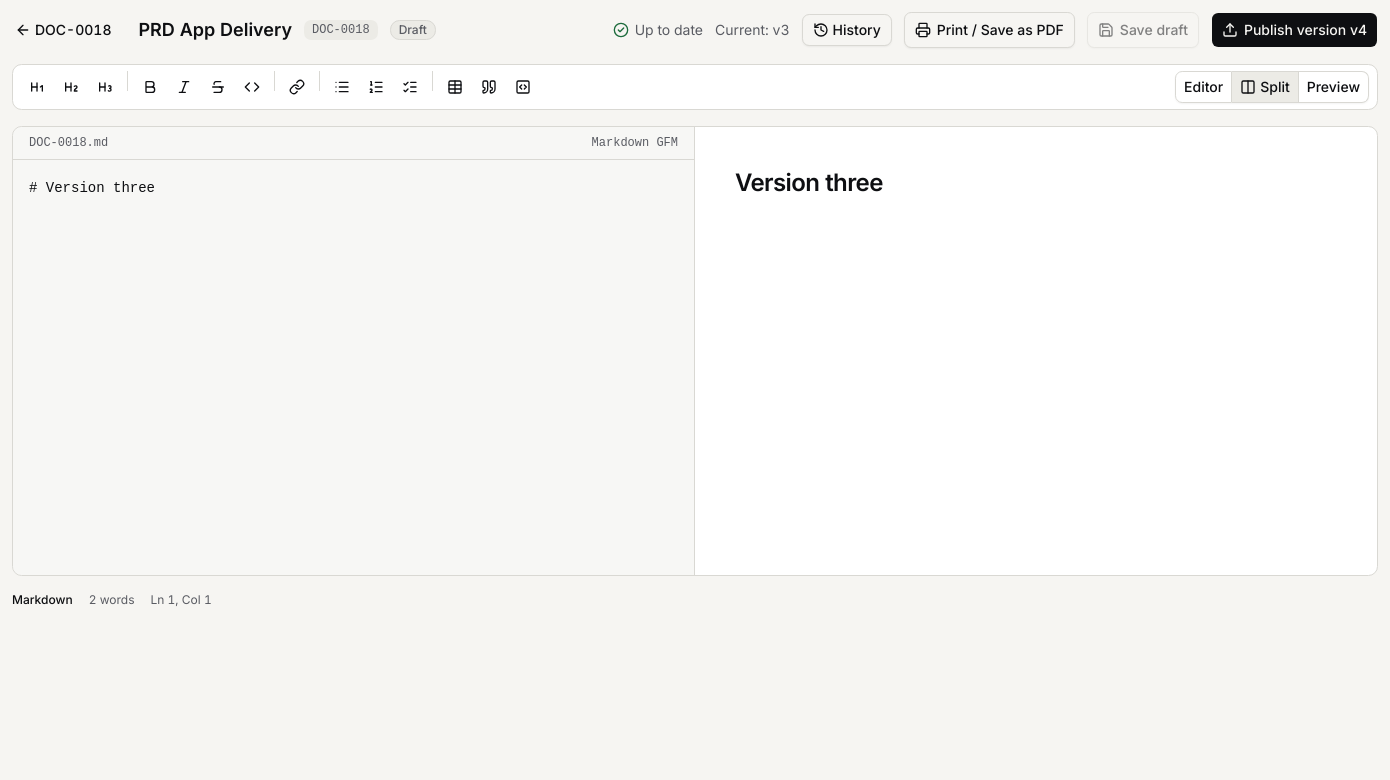
Test case: DocumentEditor save › shows an error state and keeps Save draft available when the draft cannot be saved
Replace the text in the text box named "Markdown source" with "# Changed" at (354,368), box top-left (13, 160), bottom-right (694, 575)
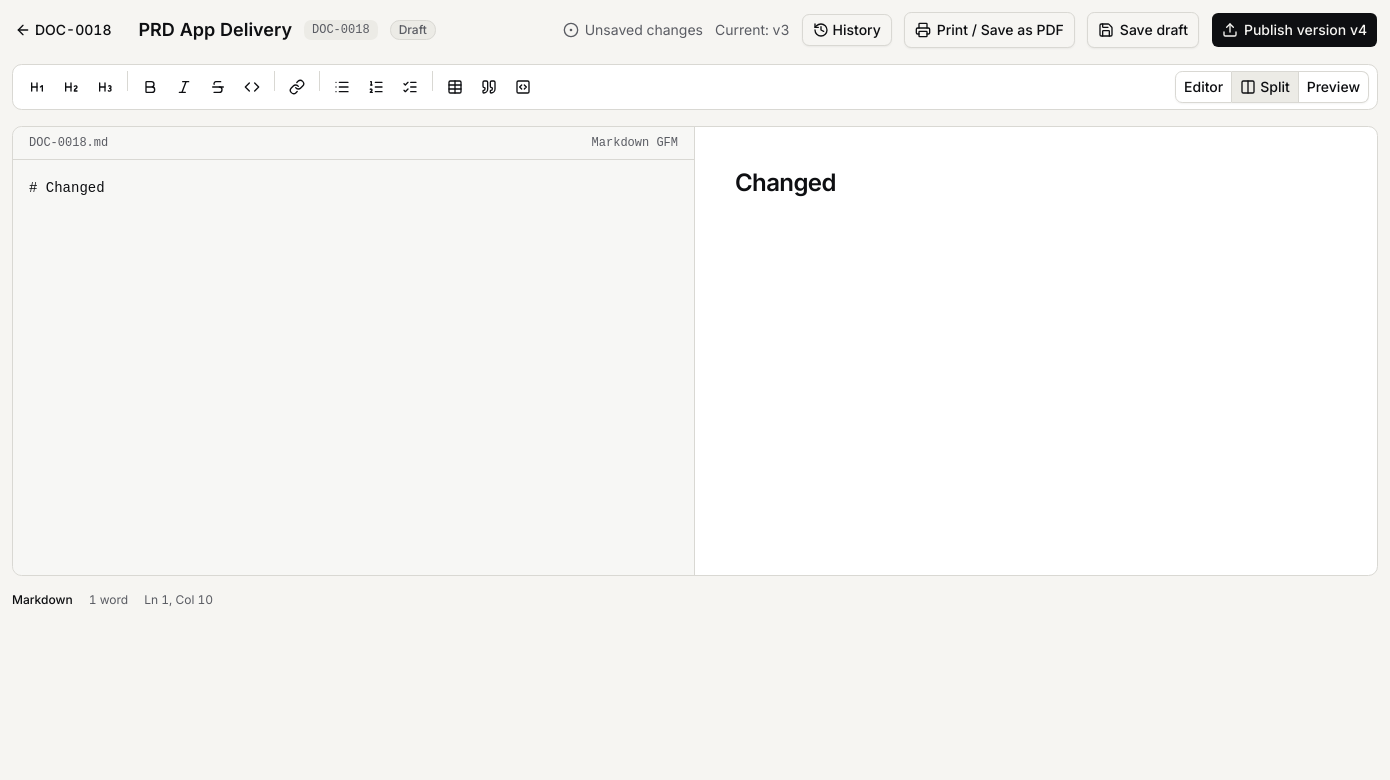
Click the button "Save draft" at (1143,30), box top-left (1087, 12), bottom-right (1199, 48)
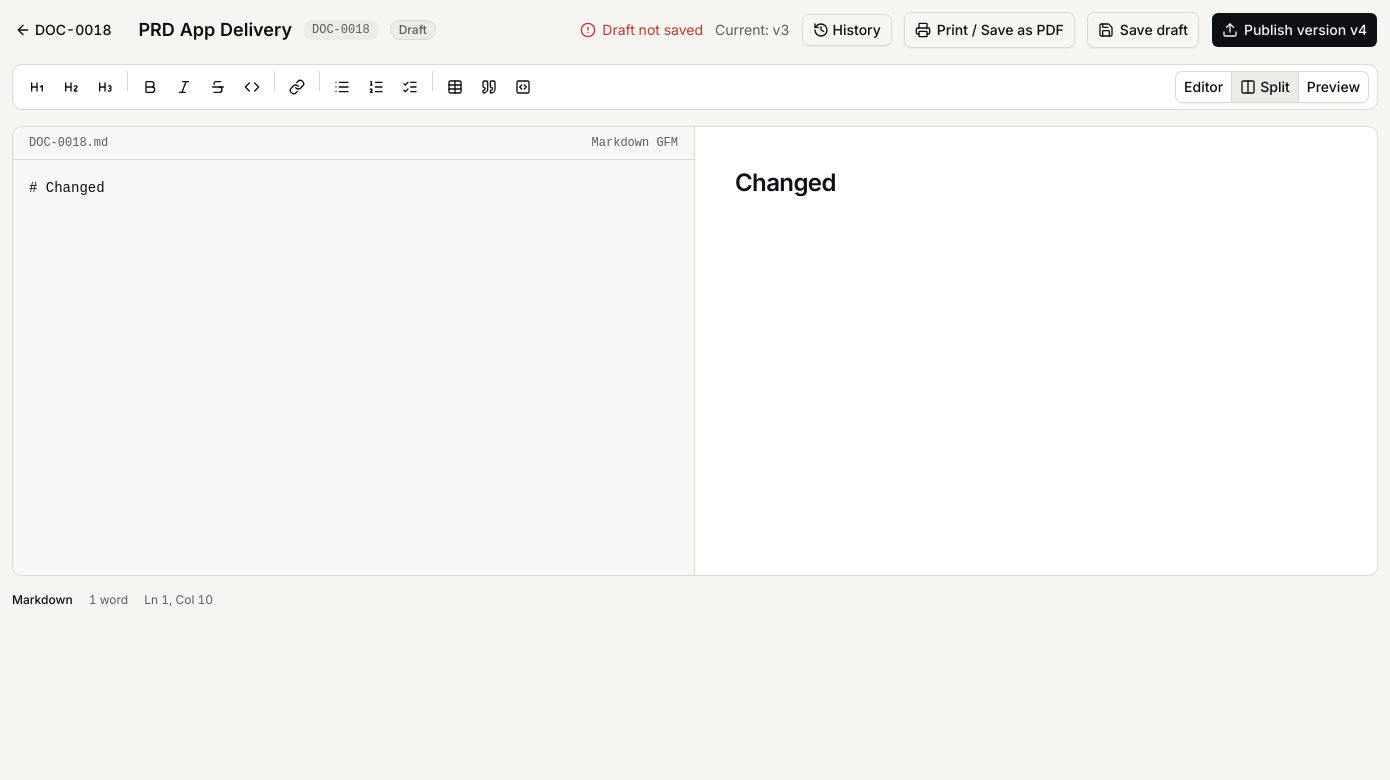
Check: the button "Save draft" is enabled, box top-left (1087, 12), bottom-right (1199, 48)
Check: the message reads "Draft not saved", box top-left (602, 21), bottom-right (703, 38)
